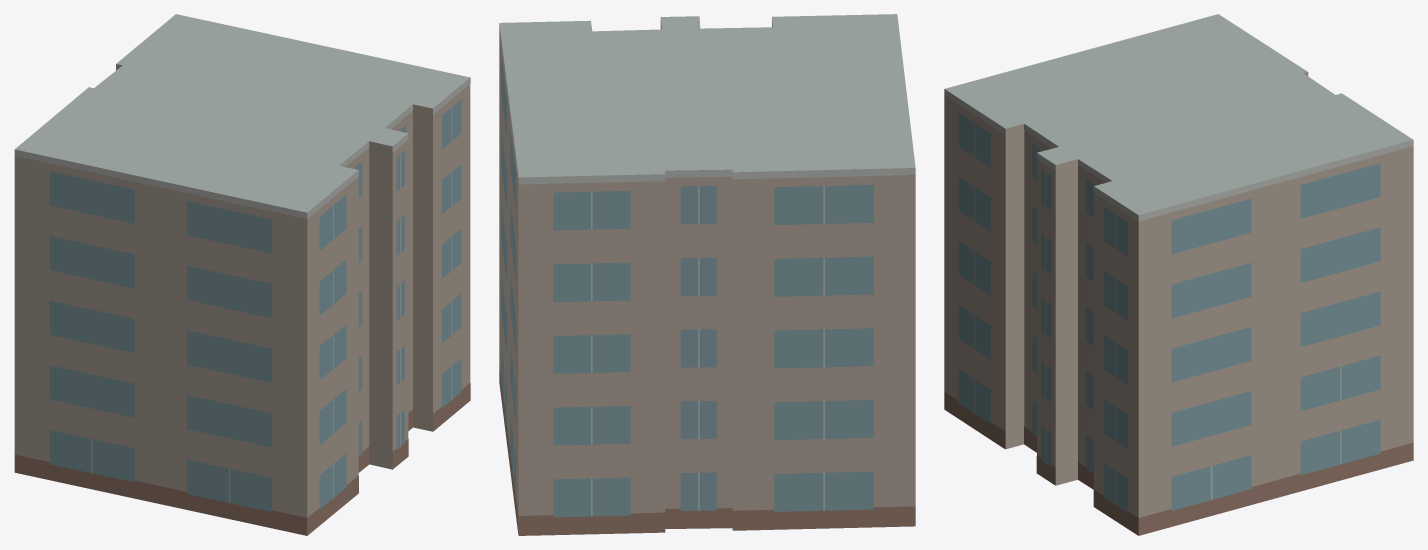
Rendered from survey-upis-32598003.glb.
The picture shows the model from 3 angles, left to right: view 1: azimuth 30°, elevation 25°; view 2: azimuth 150°, elevation 25°; view 3: azimuth 270°, elevation 25°; orthographic projection. The views are drawn at different scales.
Visible parts, largest first — view 1: survey-upis-32598003.tmp; view 2: survey-upis-32598003.tmp; view 3: survey-upis-32598003.tmp.
Part boxes in pixels (left/top/right/bottom): survey-upis-32598003.tmp: left=14, top=14, right=470, bottom=535; survey-upis-32598003.tmp: left=499, top=14, right=915, bottom=535; survey-upis-32598003.tmp: left=944, top=14, right=1413, bottom=535.
Bounding box in the file's own units: 16.76 × 12.45 × 16.52.
